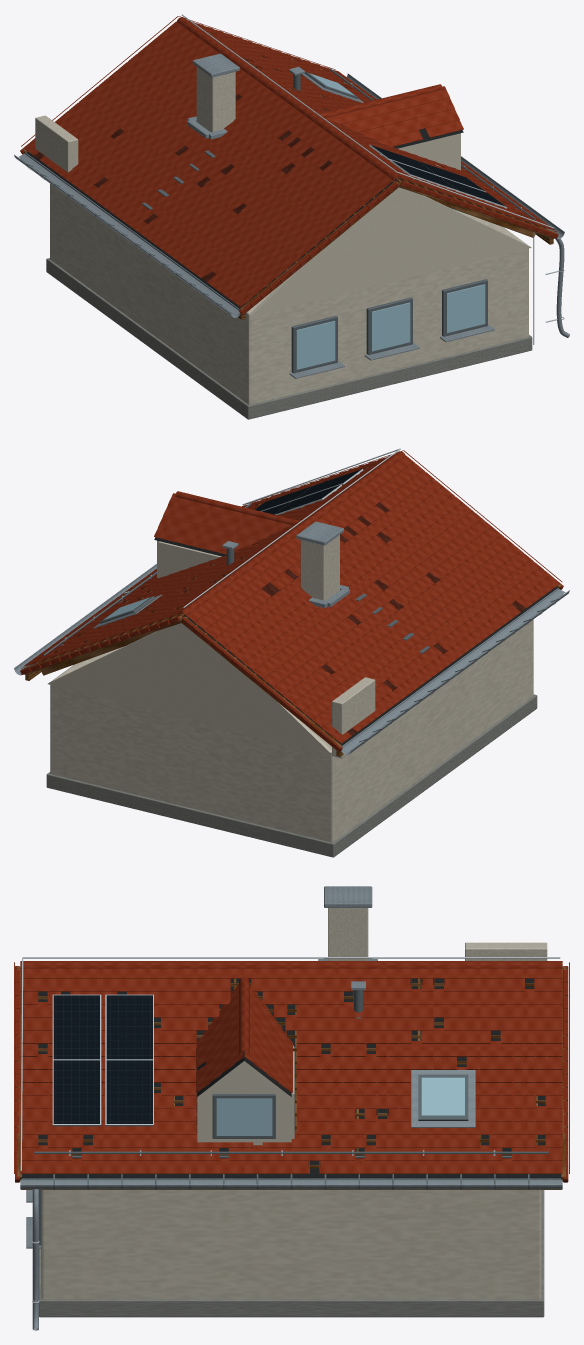
Rendered from uebersicht.glb.
3 renders of one model, top to bottom at view 1: azimuth 30°, elevation 25°; view 2: azimuth 150°, elevation 25°; view 3: azimuth 270°, elevation 25°, orthographic. The views are drawn at different scales.
Visible parts, largest first — view 1: Bauteil_s01_deckung, Bauteil_g02_tragwerk, Sockelzone, Bauteil_g02_tragwerk.002, Bauteil_s10_deckung, Bauteil_s04_deckung, Bauteil_s03_deckung, Bauteil_g02_tragwerk.001, Bauteil_s05_deckung, Schornsteinschaft, Bauteil_s02_deckung, Anschlusswand Nachbarbauteil (+11 smaller); view 2: Bauteil_s01_deckung, Bauteil_g02_tragwerk, Sockelzone, Bauteil_s10_deckung, Bauteil_s04_deckung, Bauteil_s03_deckung, Bauteil_s05_deckung, Schornsteinschaft, Bauteil_s02_deckung, Anschlusswand Nachbarbauteil, Bauteil_s10_tragwerk, Bauteil_a01_deckung.001 (+7 smaller); view 3: Bauteil_s01_deckung, Bauteil_g02_tragwerk, Bauteil_a01_deckung.001, Sockelzone, Bauteil_s10_deckung, Bauteil_g01_zusatzebene, Bauteil_s03_deckung, Bauteil_s05_deckung, Bauteil_s10_tragwerk, Bauteil_s02_deckung, Gaubenfenster Glas, Bauteil_s04_deckung (+14 smaller).
Boxes of the visible parts, <box> form: Bauteil_s01_deckung: <box>21,16,556,308</box>; Bauteil_g02_tragwerk: <box>50,184,531,404</box>; Sockelzone: <box>46,258,532,419</box>; Bauteil_g02_tragwerk.002: <box>296,284,485,369</box>; Bauteil_s10_deckung: <box>326,86,463,146</box>; Bauteil_s04_deckung: <box>20,21,558,315</box>; Bauteil_s03_deckung: <box>14,73,564,317</box>; Bauteil_g02_tragwerk.001: <box>291,279,487,373</box>; Bauteil_s05_deckung: <box>177,17,401,181</box>; Schornsteinschaft: <box>196,67,235,132</box>; Bauteil_s02_deckung: <box>19,153,559,315</box>; Anschlusswand Nachbarbauteil: <box>35,115,78,172</box>; Bauteil_s01_deckung: <box>21,450,562,745</box>; Bauteil_g02_tragwerk: <box>48,619,533,842</box>; Sockelzone: <box>46,694,537,857</box>; Bauteil_s10_deckung: <box>154,493,292,554</box>; Bauteil_s04_deckung: <box>20,455,563,752</box>; Bauteil_s03_deckung: <box>14,564,569,754</box>; Bauteil_s05_deckung: <box>178,451,405,615</box>; Schornsteinschaft: <box>300,535,339,600</box>; Bauteil_s02_deckung: <box>18,589,565,752</box>; Anschlusswand Nachbarbauteil: <box>332,677,375,758</box>; Bauteil_s10_tragwerk: <box>157,540,221,578</box>; Bauteil_a01_deckung.001: <box>255,469,361,514</box>; Bauteil_s01_deckung: <box>14,962,569,1173</box>; Bauteil_g02_tragwerk: <box>41,1190,541,1299</box>; Bauteil_a01_deckung.001: <box>53,995,152,1123</box>; Sockelzone: <box>39,1190,544,1317</box>; Bauteil_s10_deckung: <box>196,985,292,1092</box>; Bauteil_g01_zusatzebene: <box>22,978,560,1178</box>; Bauteil_s03_deckung: <box>20,1178,562,1189</box>; Bauteil_s05_deckung: <box>20,961,562,968</box>; Bauteil_s10_tragwerk: <box>197,1051,294,1145</box>; Bauteil_s02_deckung: <box>20,1180,562,1184</box>; Gaubenfenster Glas: <box>216,1098,272,1135</box>; Bauteil_s04_deckung: <box>15,966,568,1182</box>.
Bounding box in the file's own units: 10.67 × 7.16 × 11.79.
13 materials, 9 textured.
